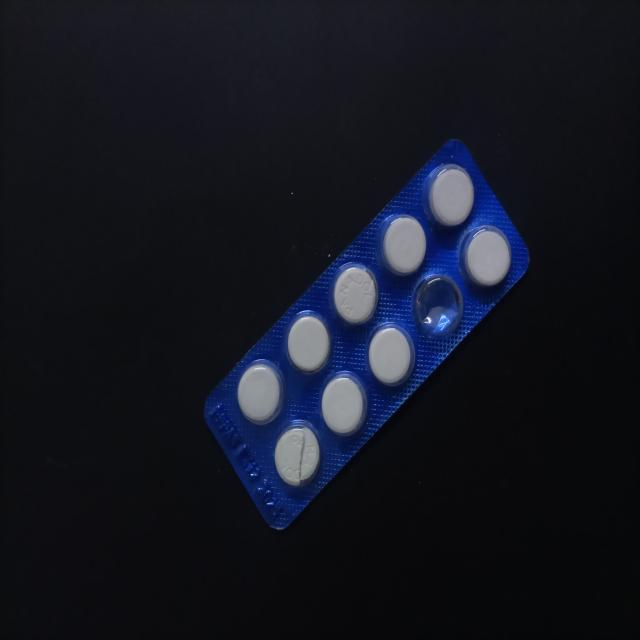defect: (412, 272, 467, 342), (273, 421, 323, 488)
